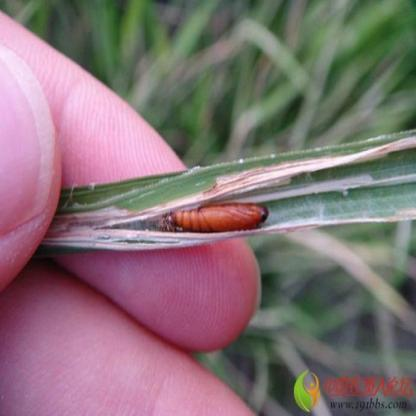leaf-folder: (167, 191, 280, 249)
